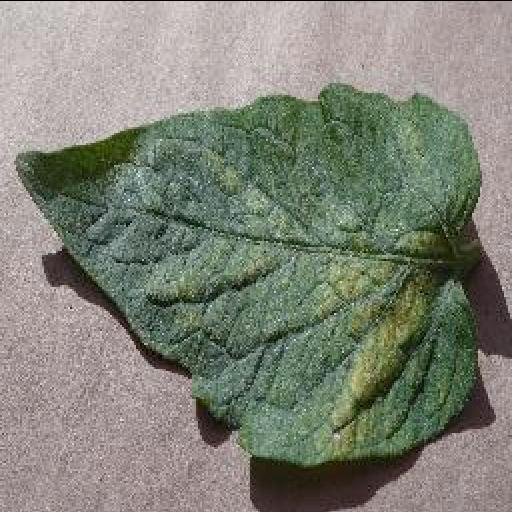disease_tomato: (12, 79, 482, 465)
